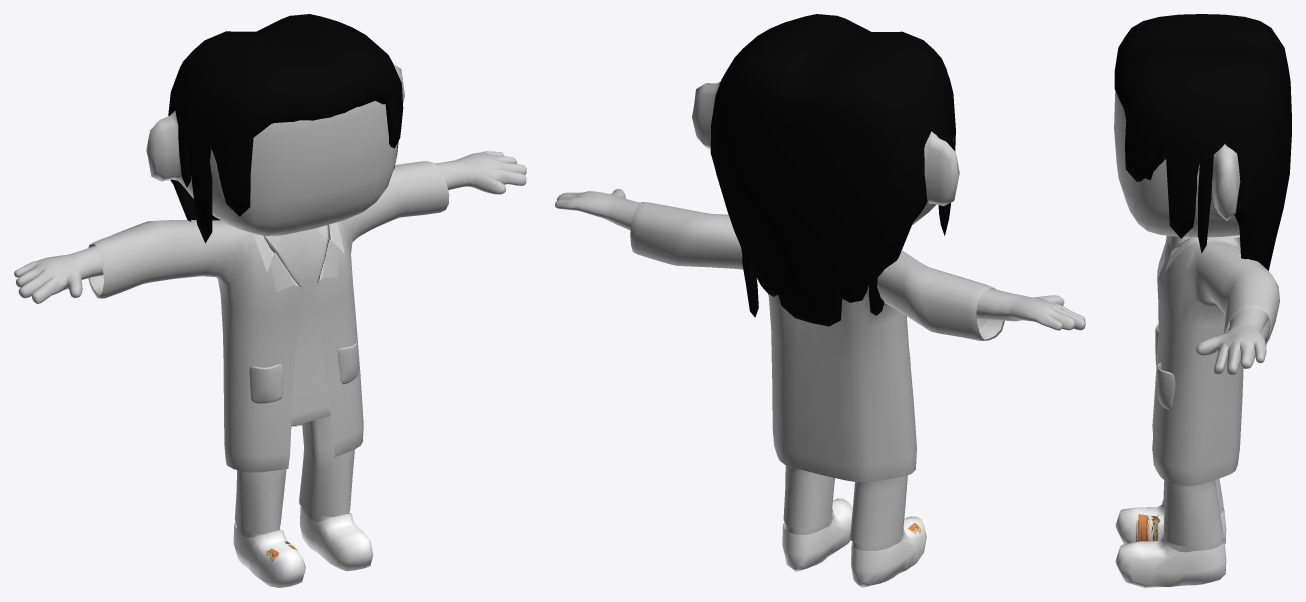
Rendered from set A.fbx.
The picture shows the model from 3 angles, left to right: view 1: azimuth 30°, elevation 25°; view 2: azimuth 150°, elevation 25°; view 3: azimuth 270°, elevation 25°; orthographic projection. The views are drawn at different scales.
Parts seen in each view (by area): view 1: DOCSALSAL, U1, polySurface5, PANTALON, TSHIRTSALOOB, SHOEKANAN, SHOEKALIWA; view 2: U1, DOCSALSAL, polySurface5, PANTALON, SHOEKANAN, SHOEKALIWA; view 3: U1, DOCSALSAL, polySurface5, SHOEKALIWA, PANTALON, SHOEKANAN.
Part boxes in pixels (x1=…): DOCSALSAL: x1=88, y1=161, x2=449, y2=472; U1: x1=168, y1=14, x2=403, y2=243; polySurface5: x1=14, y1=64, x2=526, y2=537; PANTALON: x1=235, y1=416, x2=354, y2=534; TSHIRTSALOOB: x1=266, y1=225, x2=348, y2=425; SHOEKANAN: x1=233, y1=522, x2=305, y2=587; SHOEKALIWA: x1=299, y1=506, x2=373, y2=571; U1: x1=710, y1=14, x2=955, y2=326; DOCSALSAL: x1=630, y1=202, x2=1004, y2=482; polySurface5: x1=555, y1=81, x2=1085, y2=550; PANTALON: x1=783, y1=465, x2=907, y2=545; SHOEKANAN: x1=851, y1=516, x2=926, y2=587; SHOEKALIWA: x1=782, y1=498, x2=852, y2=571; U1: x1=1114, y1=14, x2=1291, y2=270; DOCSALSAL: x1=1152, y1=235, x2=1279, y2=485; polySurface5: x1=1114, y1=91, x2=1268, y2=552; SHOEKALIWA: x1=1115, y1=534, x2=1226, y2=587; PANTALON: x1=1163, y1=478, x2=1223, y2=546; SHOEKANAN: x1=1115, y1=500, x2=1226, y2=544.
Bounding box in the file's own units: 3.42 × 3.33 × 1.02.
